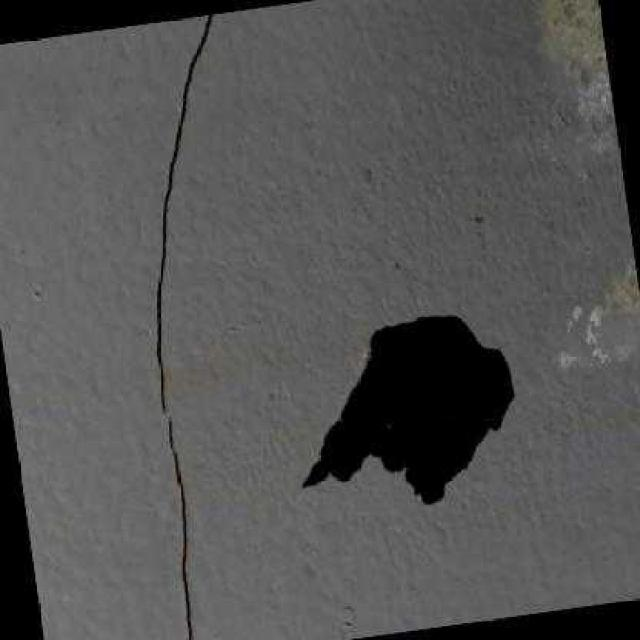D00: (155, 12, 210, 413), (167, 418, 190, 640)
